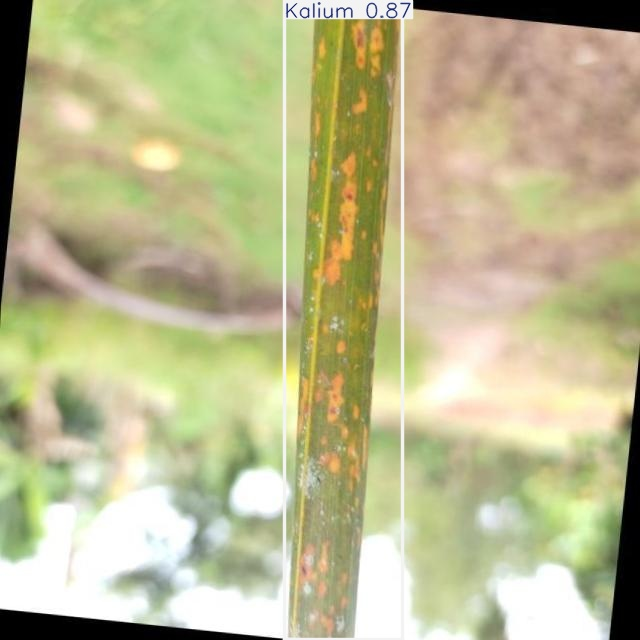Kalium: (284, 0, 402, 640)
